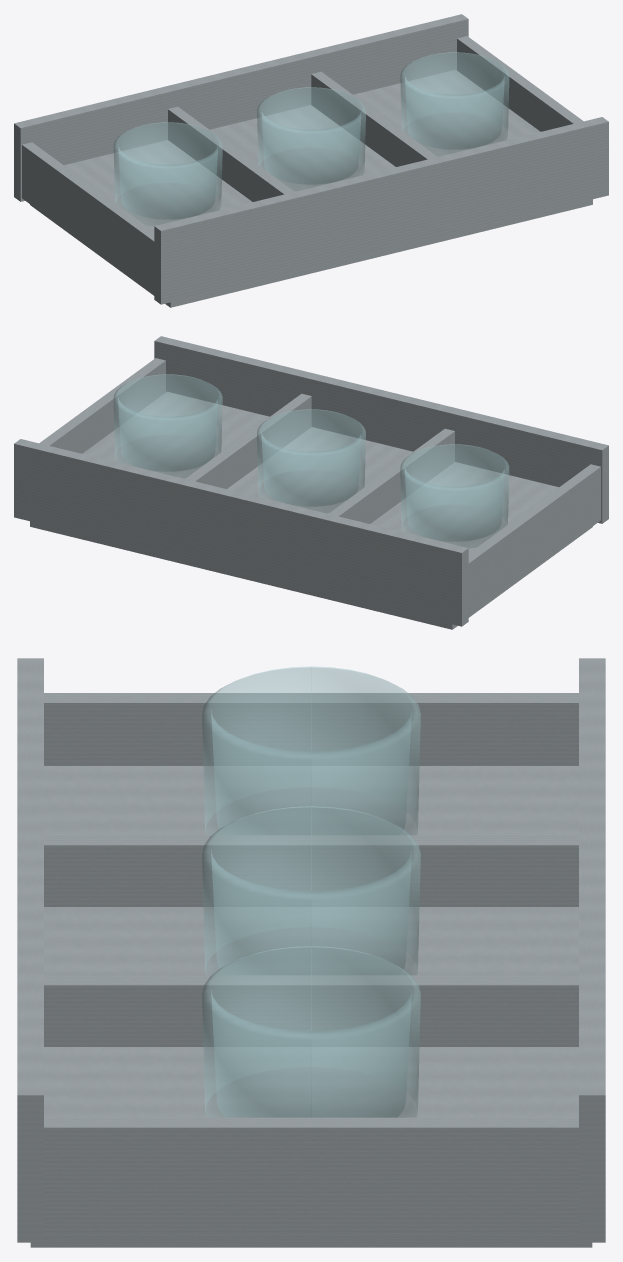
File: sample_tray.glb
3 renders of one model, top to bottom at view 1: azimuth 30°, elevation 25°; view 2: azimuth 150°, elevation 25°; view 3: azimuth 270°, elevation 25°, orthographic. The views are drawn at different scales.
Visible parts, largest first — view 1: tray rim, sample tray base, tray rim.001, sample cup, sample cup.002, sample cup.001, sample dividers, sample dividers.003, sample dividers.002, sample dividers.001; view 2: tray rim.001, sample tray base, tray rim, sample cup, sample cup.002, sample cup.001, sample dividers, sample dividers.003, sample dividers.002, sample dividers.001; view 3: sample tray base, sample dividers.003, sample dividers, sample dividers.001, sample dividers.002, sample cup.002, sample cup.001, sample cup, tray rim, tray rim.001.
Boxes of the visible parts, x1=… form: tray rim: x1=154, y1=117, x2=608, y2=304; sample tray base: x1=30, y1=69, x2=592, y2=307; tray rim.001: x1=14, y1=14, x2=468, y2=201; sample cup: x1=113, y1=122, x2=222, y2=226; sample cup.002: x1=400, y1=52, x2=509, y2=156; sample cup.001: x1=257, y1=87, x2=365, y2=191; sample dividers: x1=22, y1=142, x2=154, y2=294; sample dividers.003: x1=457, y1=36, x2=583, y2=131; sample dividers.002: x1=311, y1=71, x2=437, y2=166; sample dividers.001: x1=168, y1=106, x2=293, y2=201; tray rim.001: x1=14, y1=439, x2=468, y2=626; sample tray base: x1=30, y1=391, x2=592, y2=629; tray rim: x1=154, y1=336, x2=608, y2=523; sample cup: x1=400, y1=444, x2=509, y2=548; sample cup.002: x1=113, y1=374, x2=222, y2=478; sample cup.001: x1=257, y1=409, x2=365, y2=513; sample dividers: x1=468, y1=464, x2=600, y2=616; sample dividers.003: x1=39, y1=358, x2=165, y2=453; sample dividers.002: x1=185, y1=393, x2=311, y2=488; sample dividers.001: x1=329, y1=428, x2=454, y2=523; sample tray base: x1=30, y1=766, x2=592, y2=1247; sample dividers.003: x1=44, y1=1117, x2=578, y2=1234; sample dividers: x1=44, y1=693, x2=578, y2=765; sample dividers.001: x1=44, y1=835, x2=578, y2=906; sample dividers.002: x1=44, y1=975, x2=578, y2=1046; sample cup.002: x1=202, y1=946, x2=420, y2=1117; sample cup.001: x1=202, y1=806, x2=420, y2=974; sample cup: x1=202, y1=666, x2=420, y2=834; tray rim: x1=17, y1=658, x2=43, y2=1242; tray rim.001: x1=579, y1=658, x2=605, y2=1242.
Size of the model in its own units: 0.35 by 0.072 by 0.199.
2 materials, 2 textured.
